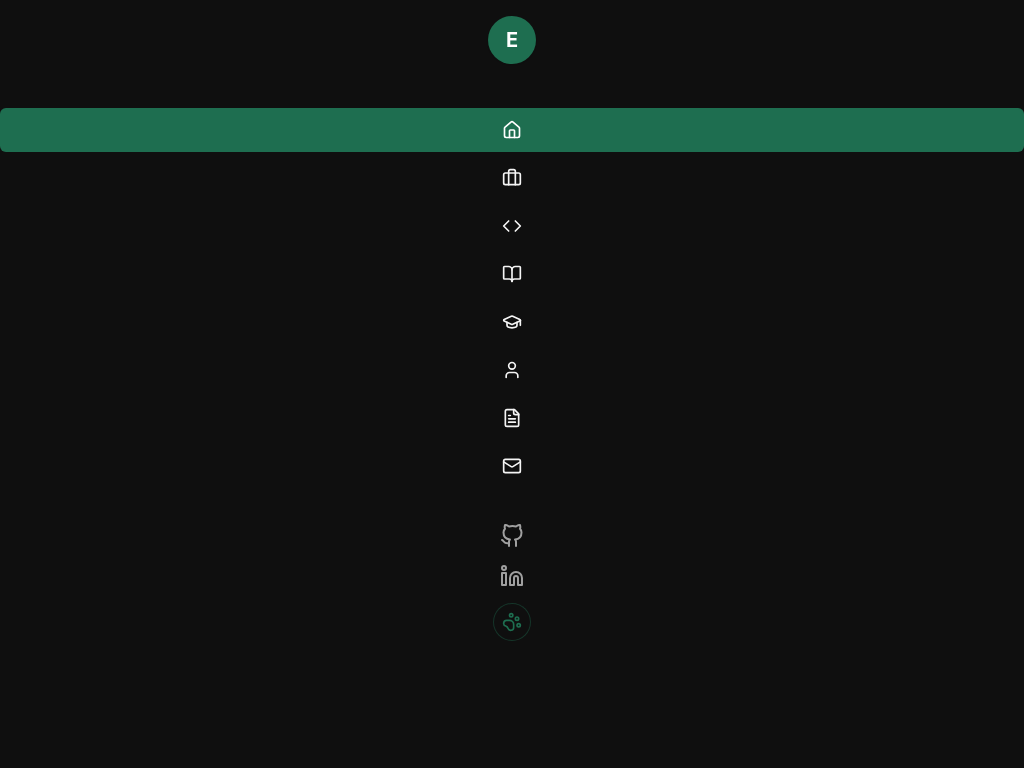
Navbar collapsed + DogModal error fallback › hides text labels visually when collapsed and opens dog modal
This screenshot has width=1024, height=768.
Expected: the link named "About Me" is shown, [0,108,1023,152]
Click the button named "Meet Mel". click: (512, 622)
box: [494,604,530,640]
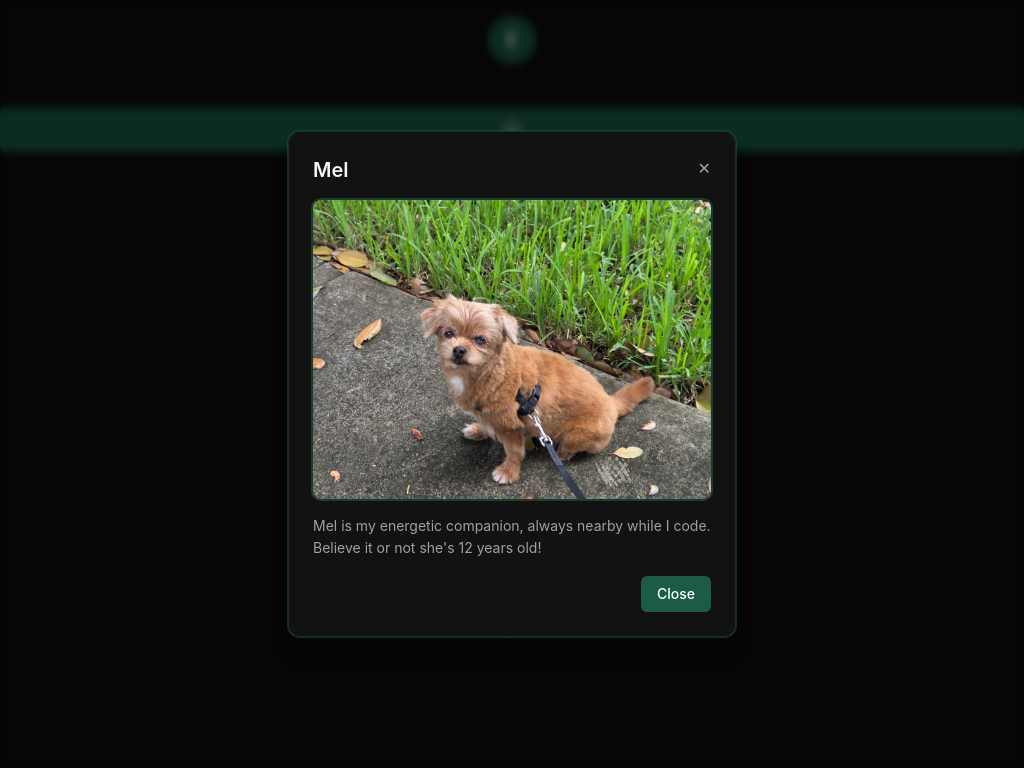
Result: the dialog is shown
